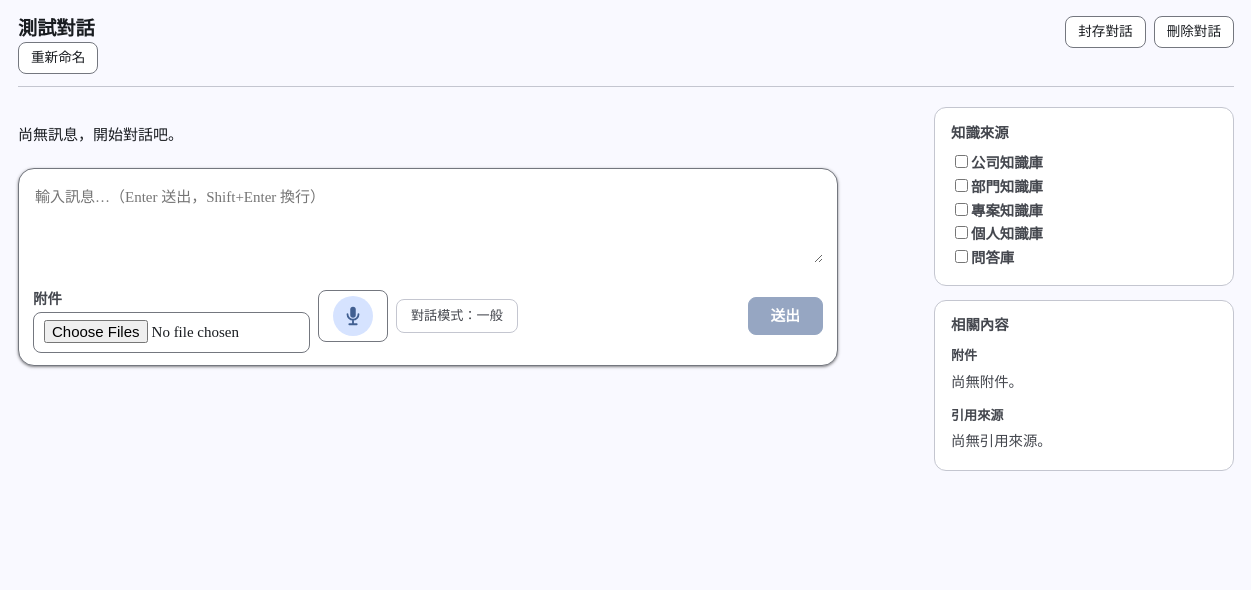
Test: ConversationDetail (E03-S002/S003/S004/S005/S006) › E03-S005: shows the model selector after switching from normal to advanced mode
Expected: the heading "測試對話" is shown, [18,16,98,42]
Expected: the dropdown labelled "AI 模型" is not shown
Click the button "對話模式：一般" at (457,316), box [396,299,518,333]
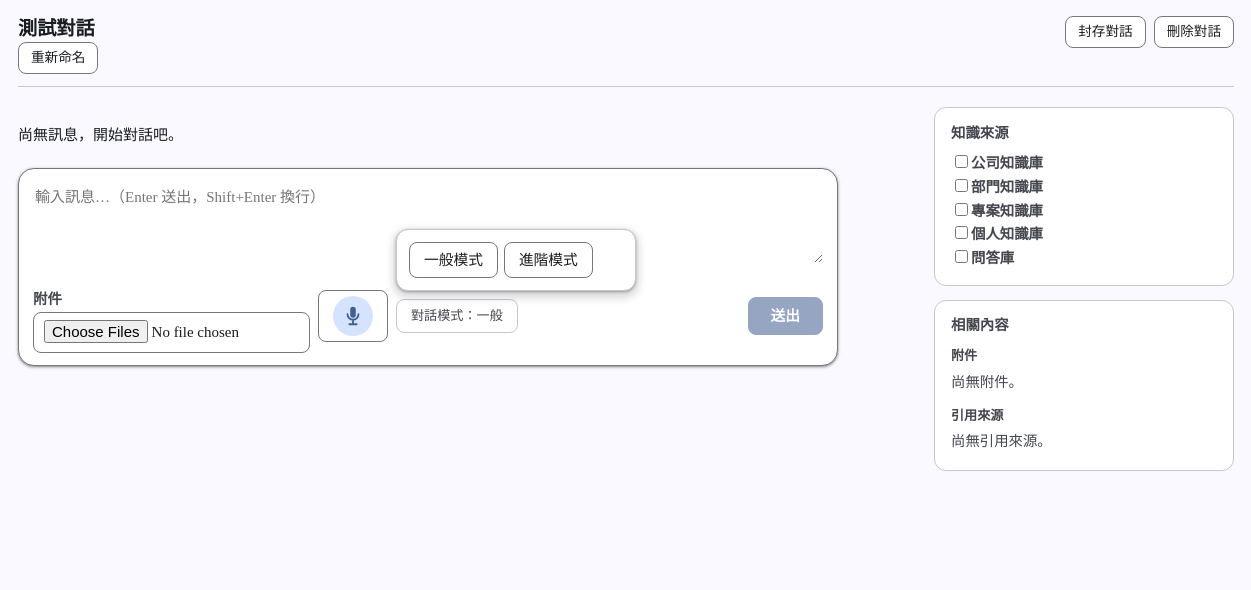
Click the button "進階模式" at (548,260), box [504,242,593,278]
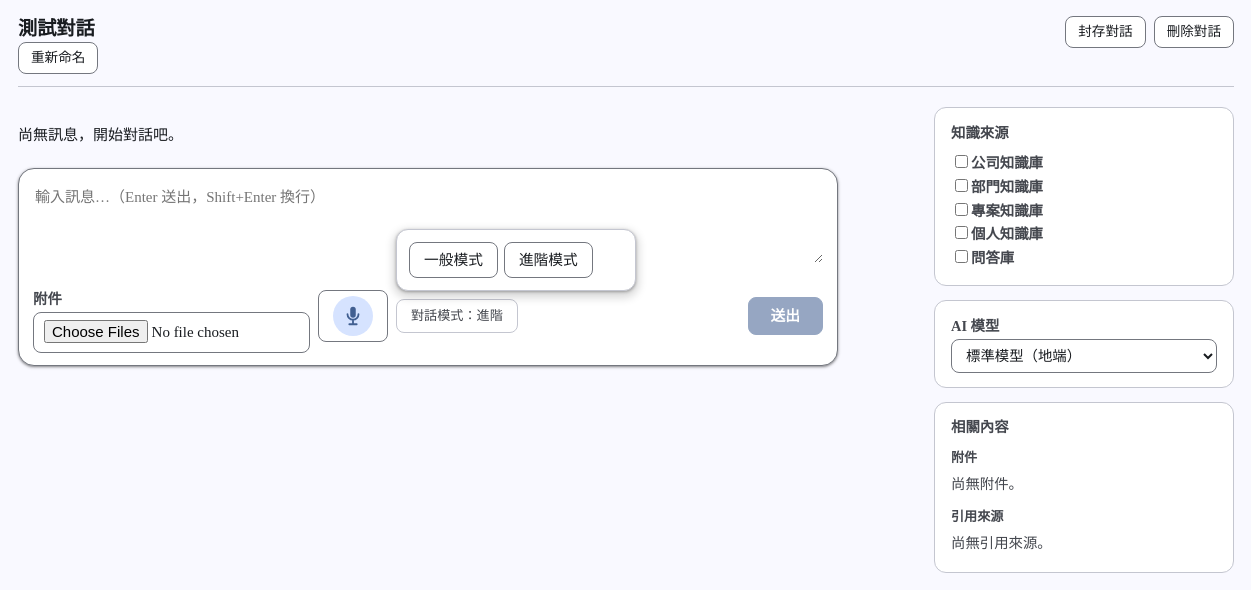
Expected: the dropdown labelled "AI 模型" shows "標準模型（地端）", [951,339,1217,373]
